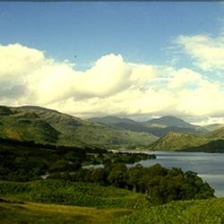neutral: (2, 104, 224, 223)
